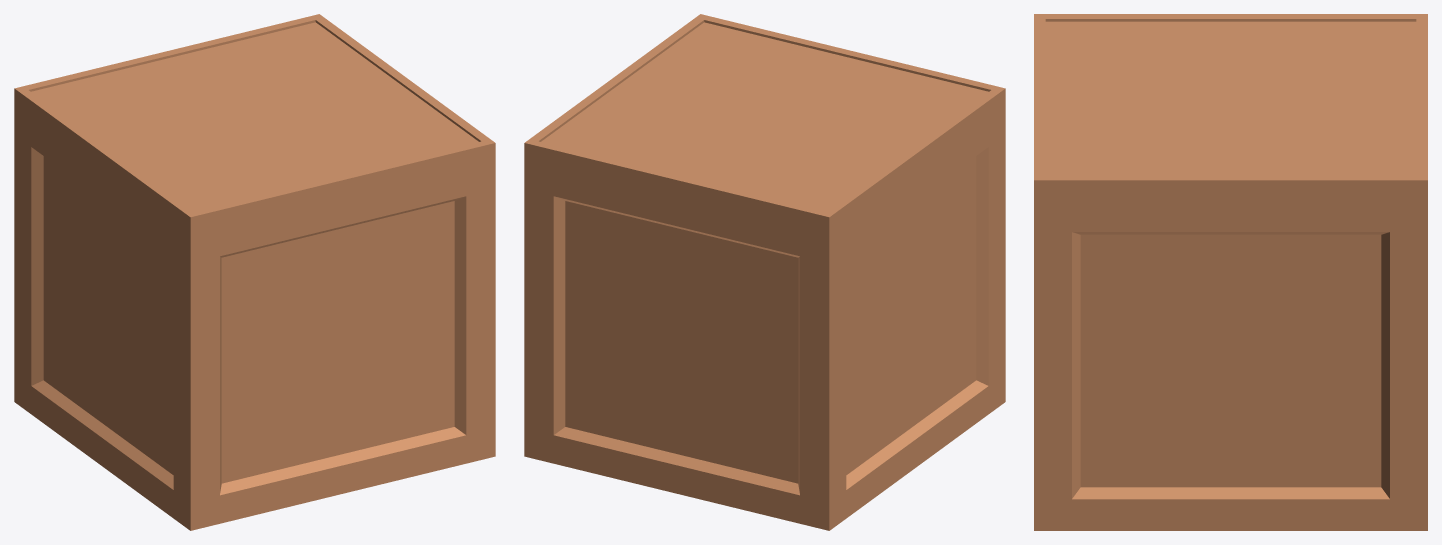
3 renders of one model, left to right at view 1: azimuth 30°, elevation 25°; view 2: azimuth 150°, elevation 25°; view 3: azimuth 270°, elevation 25°, orthographic. The views are drawn at different scales.
Parts seen in each view (by area): view 1: Cube; view 2: Cube; view 3: Cube.
Part boxes in pixels (x1,y1,x2,y2): Cube: (14, 14, 495, 530); Cube: (524, 14, 1005, 530); Cube: (1034, 14, 1427, 530).
Size of the model in its own units: 200 by 196 by 200.
